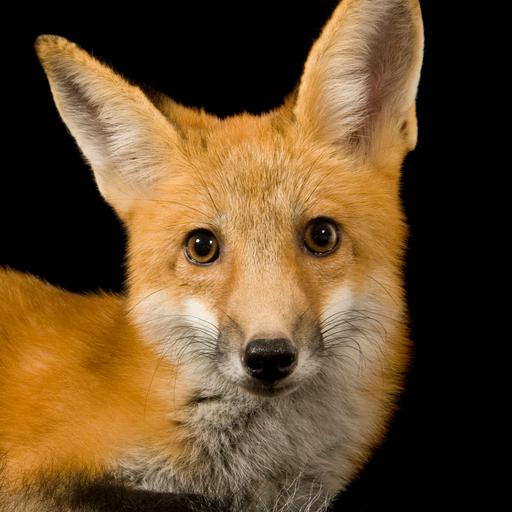Fox: (0, 0, 423, 508)
